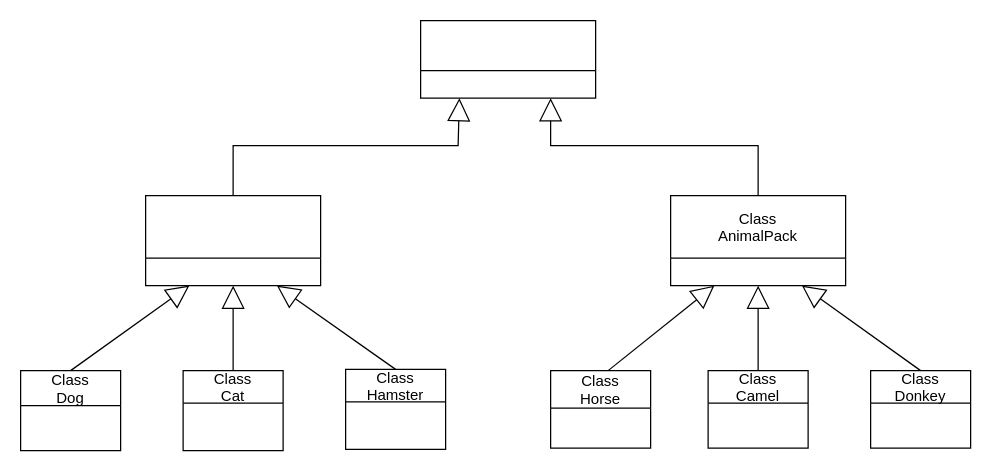
Some shapes in this 991 by 471 pixel diagram are drawn without their labels. The shapes that lost their labels are listed below. From the top down, each one's box as (x1, y1, x2, y2) in pixels, then its label:
(419, 19, 596, 98): Class Animal
(144, 194, 321, 286): Class homeAnimals
